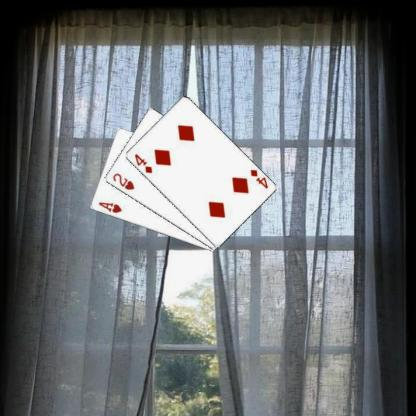2H: (110, 171, 135, 191)
4D: (132, 151, 153, 174), (248, 166, 268, 190)
AH: (96, 200, 123, 214)
